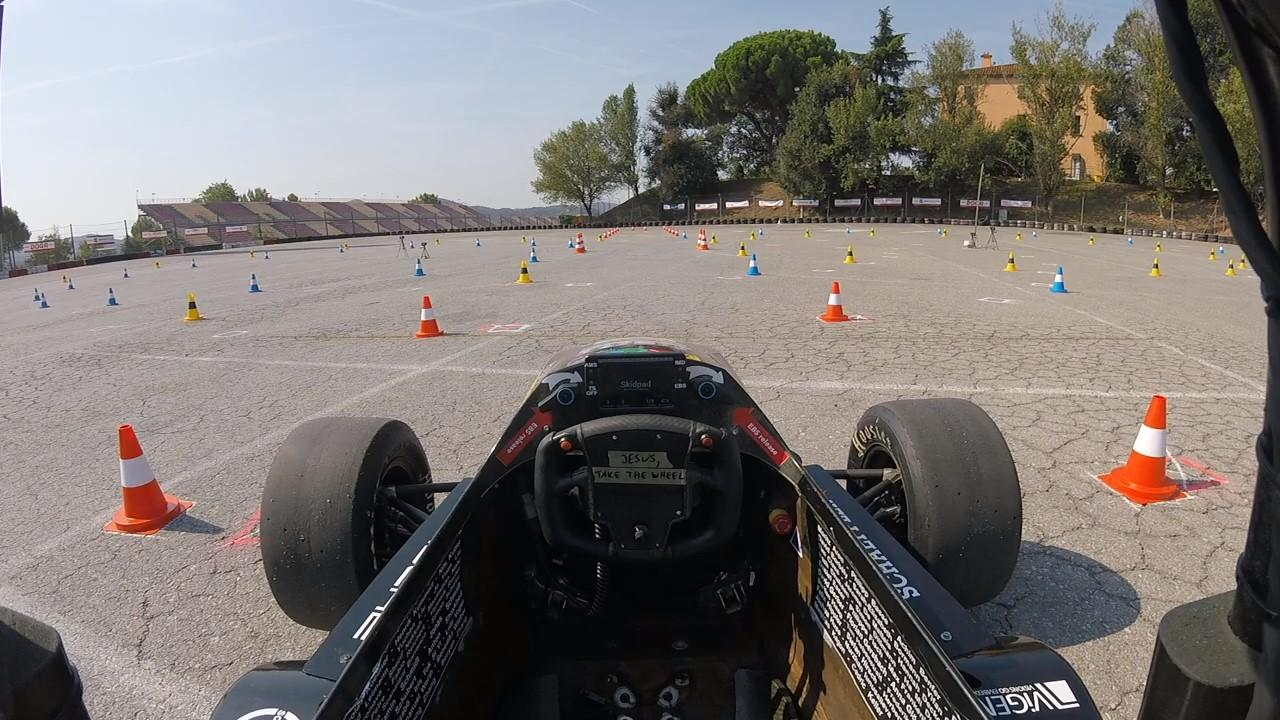blue_cone: (1051, 267, 1068, 294), (748, 254, 762, 278), (249, 273, 263, 294), (107, 288, 119, 306), (414, 259, 426, 276), (528, 248, 540, 264), (39, 294, 50, 309), (31, 288, 41, 303), (123, 267, 132, 279), (567, 237, 575, 250), (936, 227, 943, 237), (1218, 245, 1225, 255), (682, 230, 688, 241), (530, 237, 537, 246), (1127, 236, 1134, 245), (1032, 230, 1039, 239), (475, 237, 481, 247), (758, 228, 764, 238), (264, 252, 270, 261), (338, 245, 344, 254), (409, 240, 415, 249), (191, 259, 197, 267), (845, 228, 851, 236)
large_orange_cone: (700, 230, 708, 250), (576, 234, 582, 253), (697, 230, 702, 249), (581, 233, 585, 252)
orange_cone: (108, 421, 195, 541), (1107, 395, 1184, 509), (820, 282, 854, 326), (416, 296, 445, 340), (604, 231, 607, 238), (676, 229, 679, 236), (672, 228, 675, 235), (669, 227, 672, 234), (608, 230, 611, 236), (611, 229, 614, 234), (614, 228, 617, 233), (666, 226, 668, 232), (663, 225, 665, 231), (617, 227, 619, 230)
yellow_cone: (181, 294, 203, 323), (517, 260, 531, 285), (1006, 251, 1017, 272), (1151, 257, 1162, 277), (844, 245, 855, 264), (1226, 260, 1235, 276), (1238, 255, 1247, 270), (739, 242, 747, 257), (1208, 247, 1216, 261), (1087, 235, 1096, 246), (1154, 241, 1162, 253), (749, 230, 757, 241), (60, 274, 68, 284), (711, 233, 718, 244), (1016, 230, 1023, 241), (248, 250, 256, 259), (804, 229, 811, 239), (154, 261, 161, 269), (870, 227, 876, 236), (943, 229, 949, 238), (521, 235, 527, 243), (598, 233, 603, 242), (344, 243, 349, 251), (435, 239, 440, 246)
